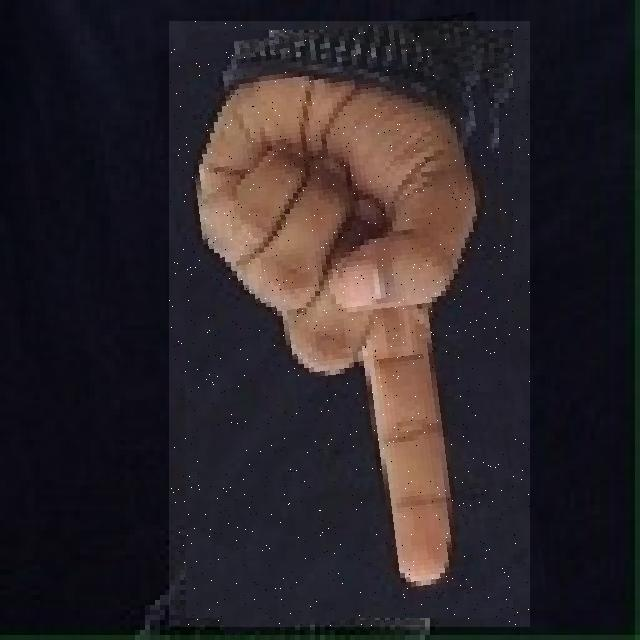IloveYou: (169, 21, 530, 627)
